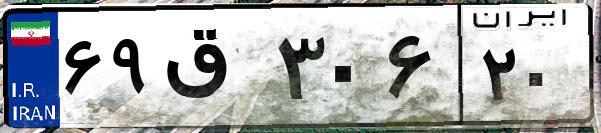0: (330, 28, 385, 110), (525, 38, 570, 115)
2: (475, 38, 525, 113)
3: (270, 28, 330, 110)
6: (385, 28, 445, 110), (57, 26, 110, 100)
9: (110, 28, 158, 98)
ق: (158, 20, 270, 120)
